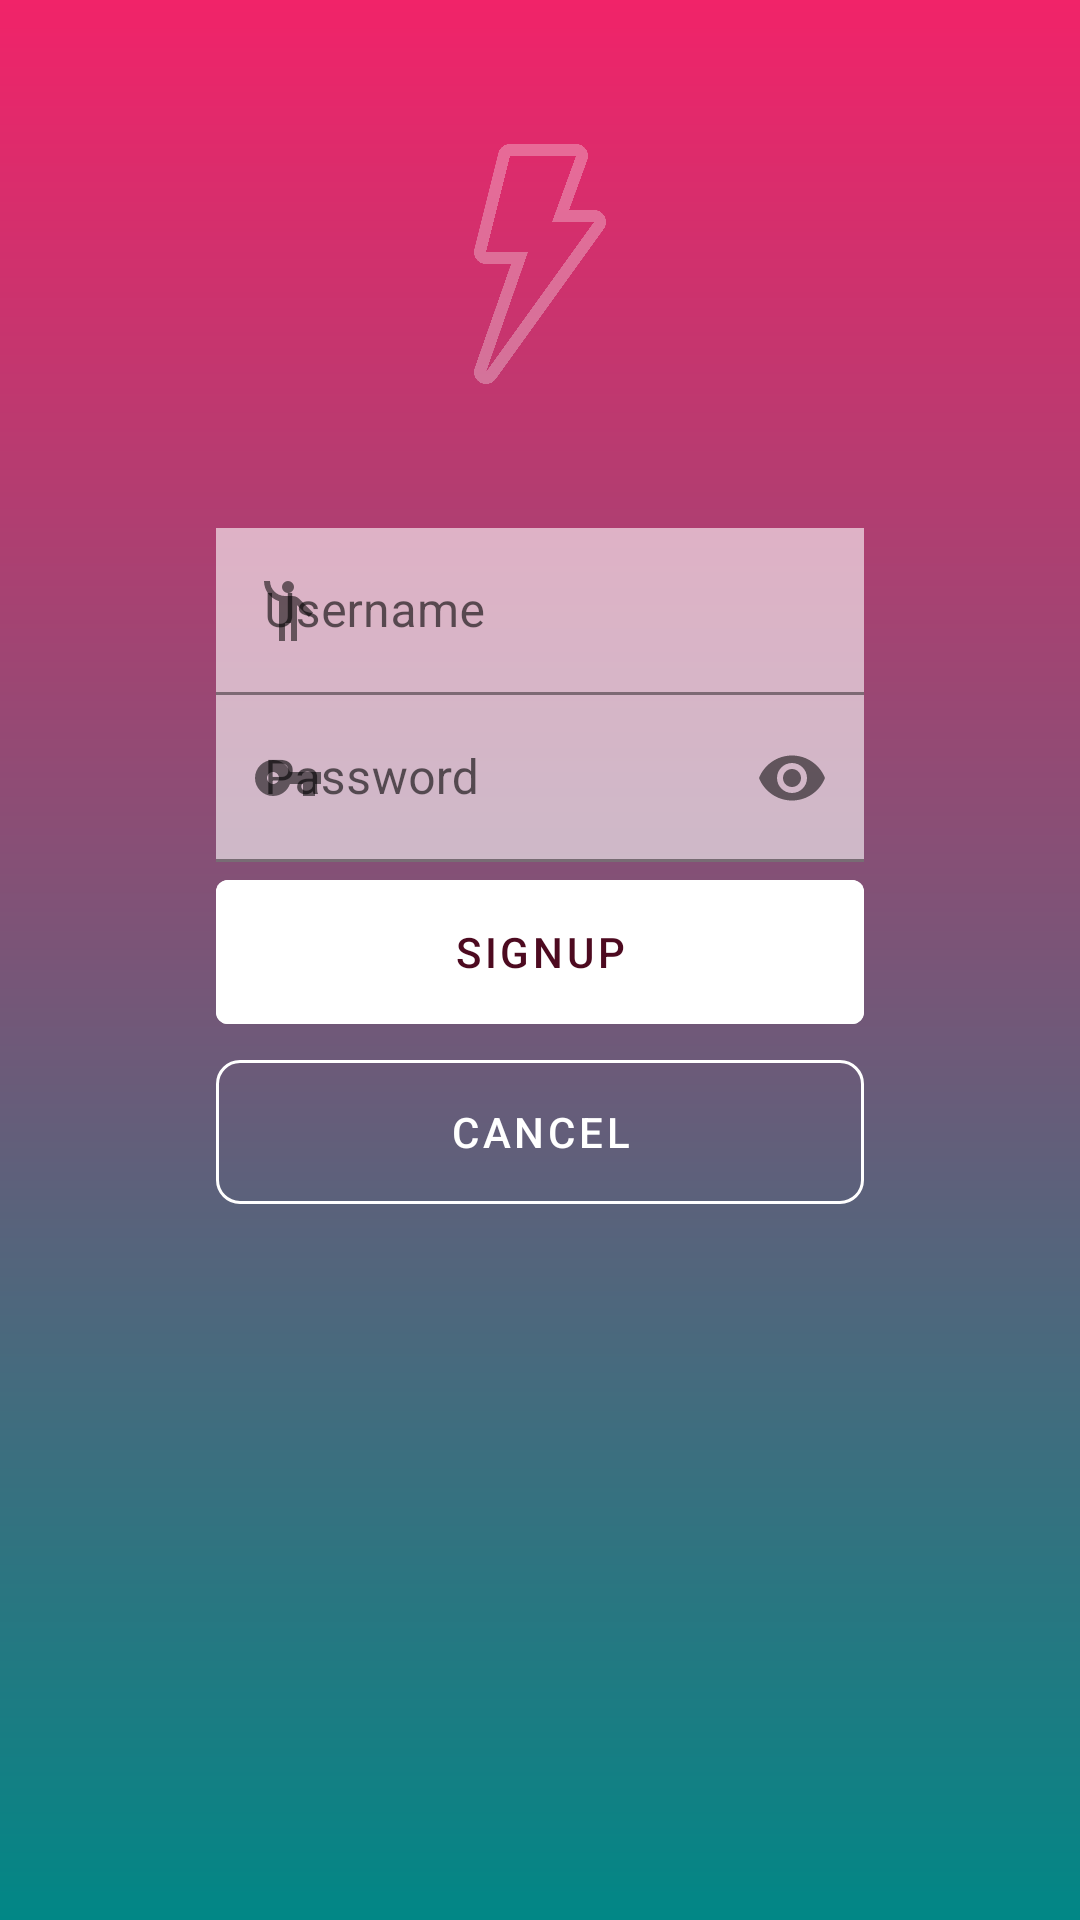

Point at icon controls on the screen. Image size 1080 x 1920, points as (x,y).
thunder: (540,264)
